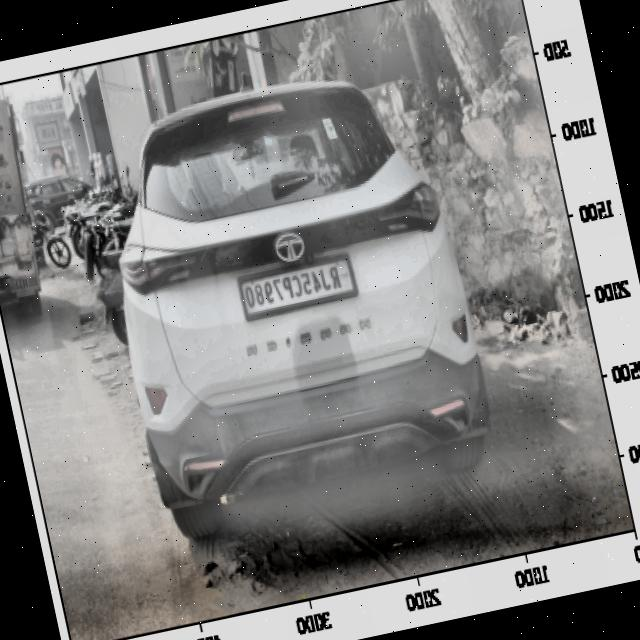license_plate: (236, 256, 351, 322)
